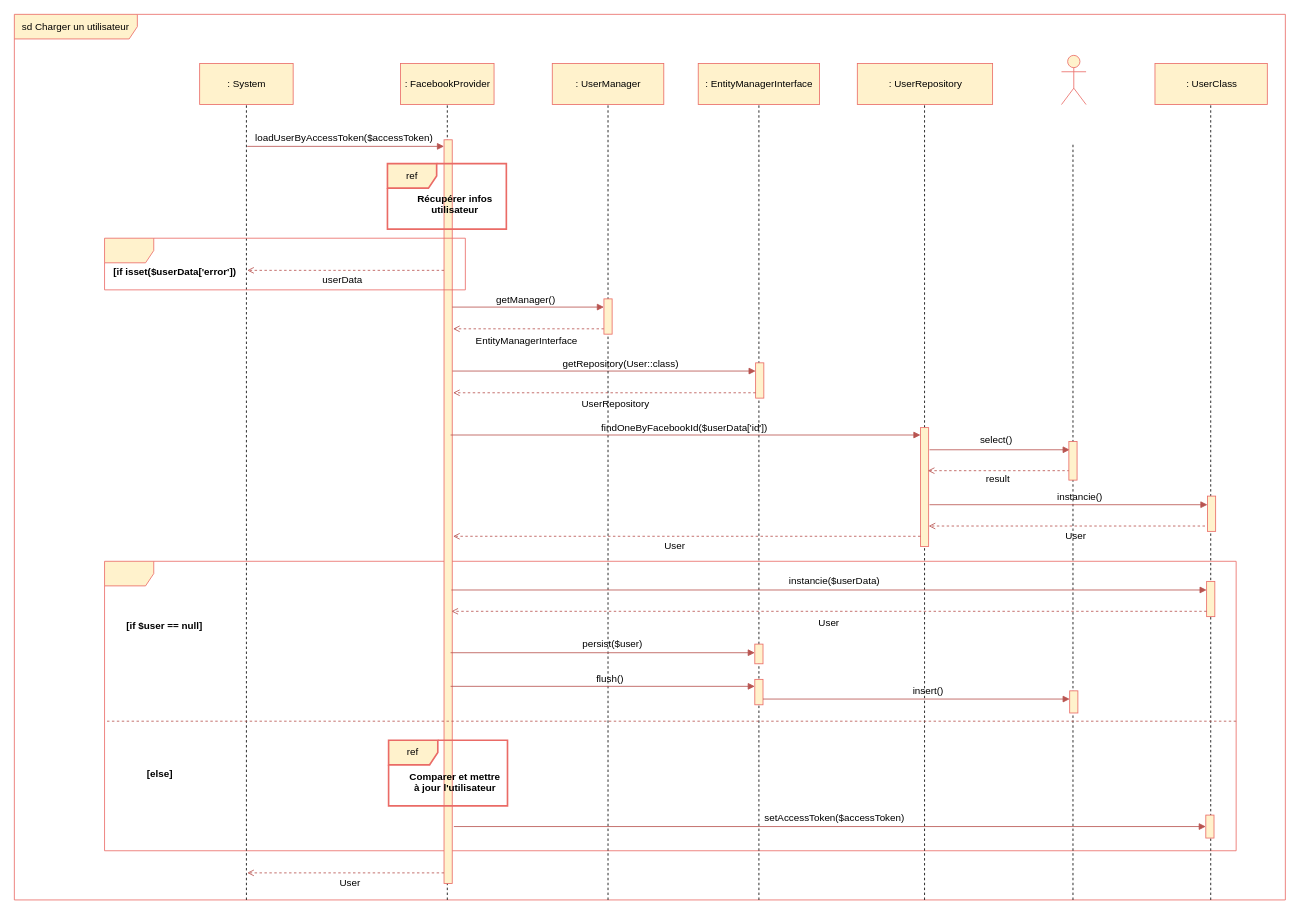
Image size: 1300x915. Some labels were removed from this diagram. Each missing label, with the box of its shape:
<<système>> Base de données: (1061, 55, 1086, 105)
alt: (104, 560, 1236, 851)
break: (104, 237, 465, 290)
